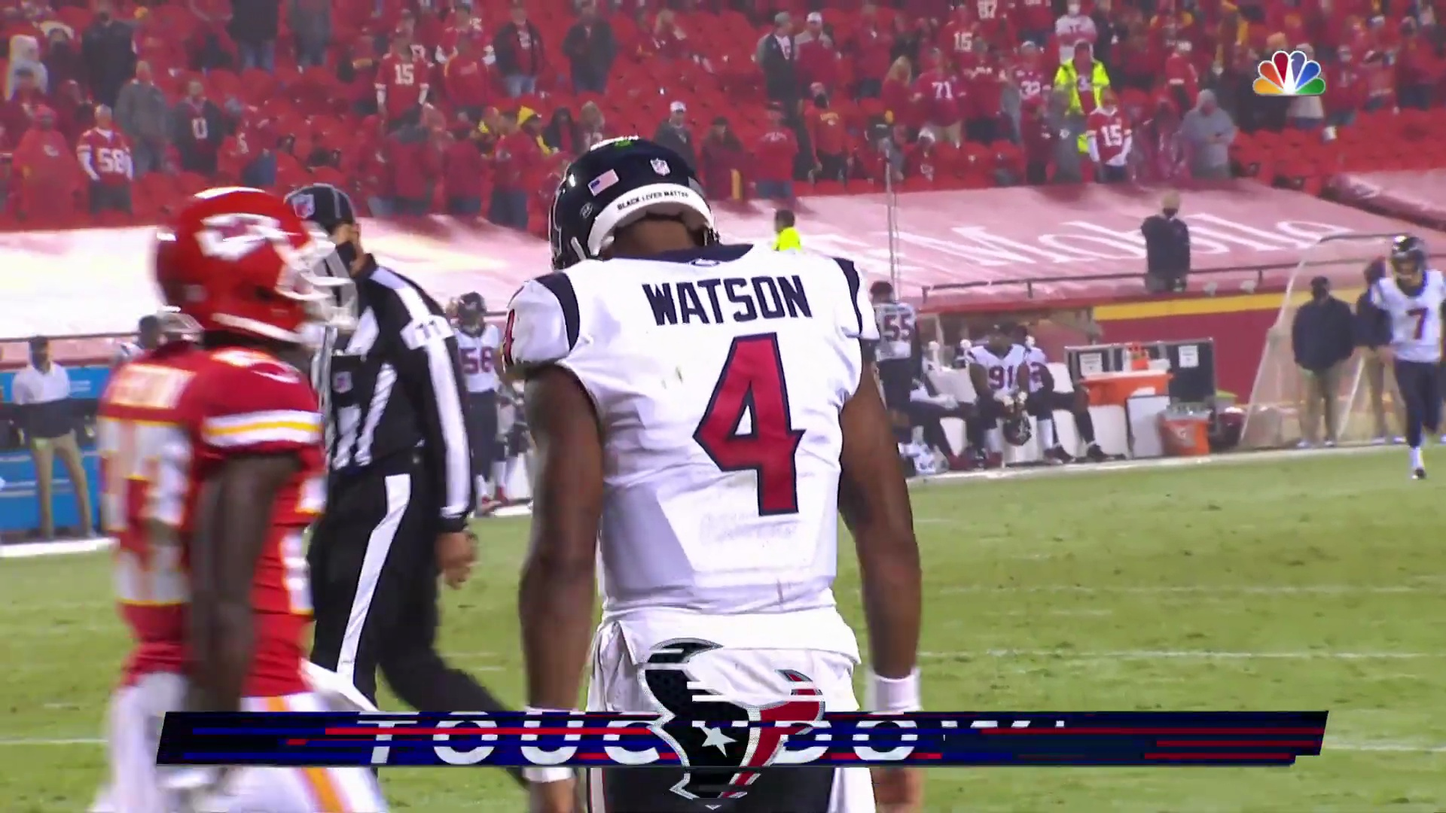Player: (514, 184, 936, 703), (104, 299, 207, 756)
